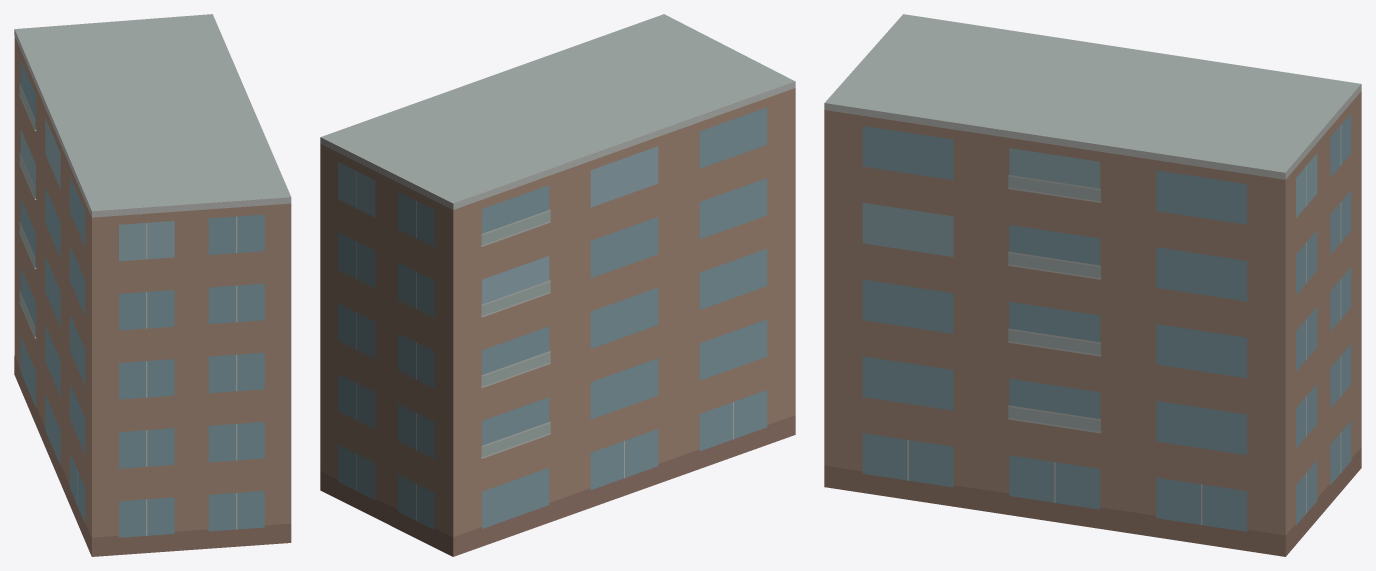
The model's file is survey-upis-32894285.glb.
3 renders of one model, left to right at view 1: azimuth 30°, elevation 25°; view 2: azimuth 150°, elevation 25°; view 3: azimuth 270°, elevation 25°, orthographic. The views are drawn at different scales.
Parts seen in each view (by area): view 1: survey-upis-32894285.tmp; view 2: survey-upis-32894285.tmp; view 3: survey-upis-32894285.tmp.
Part boxes in pixels (x1,y1,x2,y2): survey-upis-32894285.tmp: [14, 14, 291, 556]; survey-upis-32894285.tmp: [320, 14, 795, 556]; survey-upis-32894285.tmp: [824, 14, 1361, 556].
Size of the model in its own units: 11.89 by 13.4 by 16.99.
